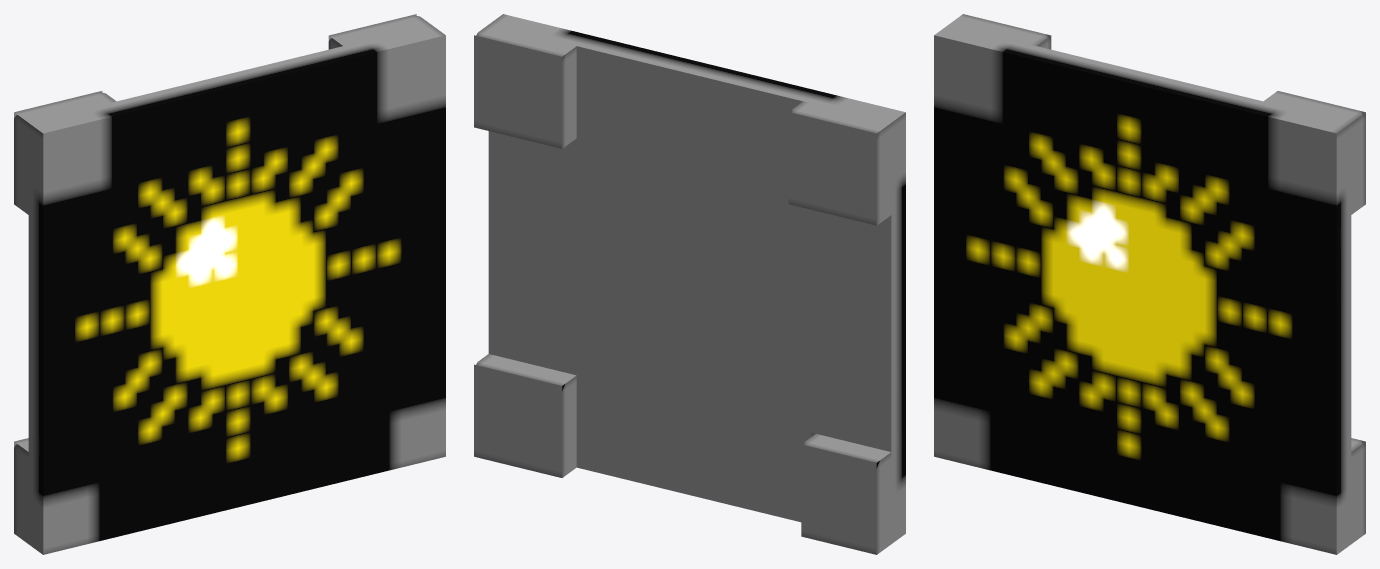
File: słoneczko.dae
The picture shows the model from 3 angles, left to right: view 1: azimuth 30°, elevation 25°; view 2: azimuth 150°, elevation 25°; view 3: azimuth 330°, elevation 25°; orthographic projection.
Visible parts, largest first — view 1: słoneczko; view 2: słoneczko; view 3: słoneczko.
Boxes of the visible parts, x1,y1,x2,y2 form: słoneczko: (14, 14, 445, 554); słoneczko: (474, 14, 905, 554); słoneczko: (934, 14, 1365, 554).
Bounding box in the file's own units: 32 × 32 × 4.
Materials: 1 (1 with a texture image).
